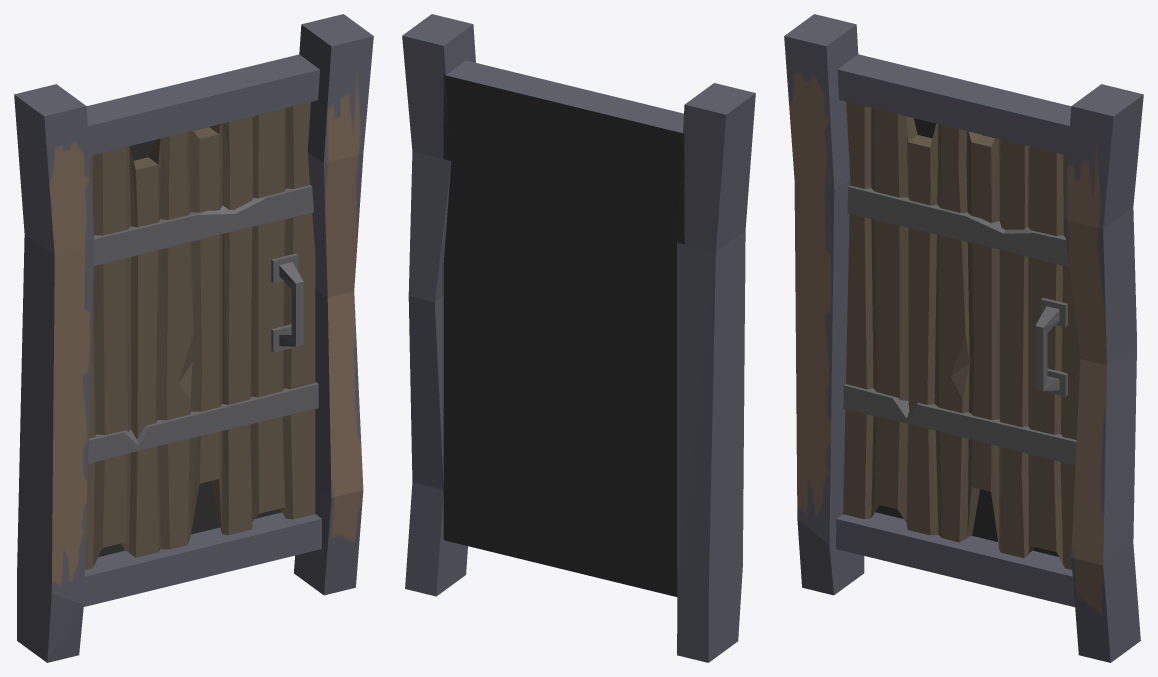
Rendered from SM_Prop_Door_01.glb.
3 renders of one model, left to right at view 1: azimuth 30°, elevation 25°; view 2: azimuth 150°, elevation 25°; view 3: azimuth 330°, elevation 25°, orthographic.
Parts seen in each view (by area): view 1: SM_Prop_Door_01_part00; view 2: SM_Prop_Door_01_part00; view 3: SM_Prop_Door_01_part00.
Part boxes in pixels (box(x1,y1,x2,y2)): SM_Prop_Door_01_part00: box(14, 14, 373, 662); SM_Prop_Door_01_part00: box(402, 14, 755, 662); SM_Prop_Door_01_part00: box(784, 14, 1143, 662).
Bounding box in the file's own units: 1.46 × 2.35 × 0.291.
Materials: 1 (1 with a texture image).
